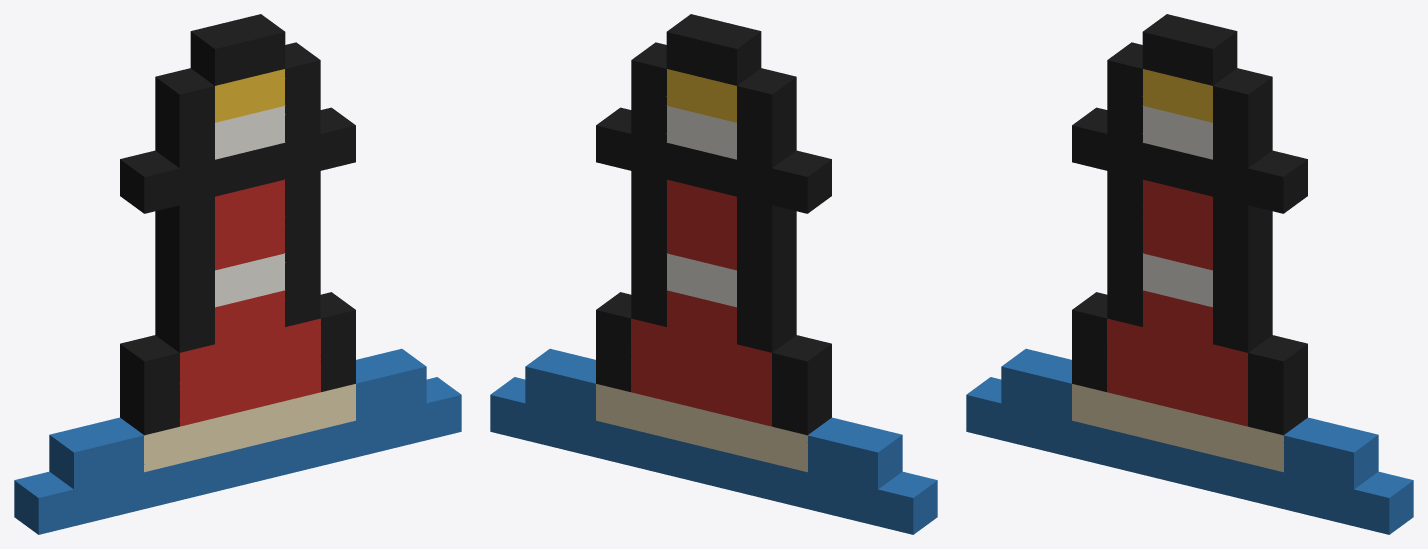
File: magnet_lighthouse.glb
3 views of the same model, side by side, from view 1: azimuth 30°, elevation 25°; view 2: azimuth 150°, elevation 25°; view 3: azimuth 330°, elevation 25° (orthographic).
Parts seen in each view (by area): view 1: Magnet_lighthouse; view 2: Magnet_lighthouse; view 3: Magnet_lighthouse.
Part boxes in pixels (bbox=[...]): Magnet_lighthouse: bbox=[14, 14, 461, 534]; Magnet_lighthouse: bbox=[490, 14, 937, 534]; Magnet_lighthouse: bbox=[966, 14, 1413, 534].
Size of the model in its own units: 0.06 by 0.06 by 0.006.
Materials: 1 (1 with a texture image).
